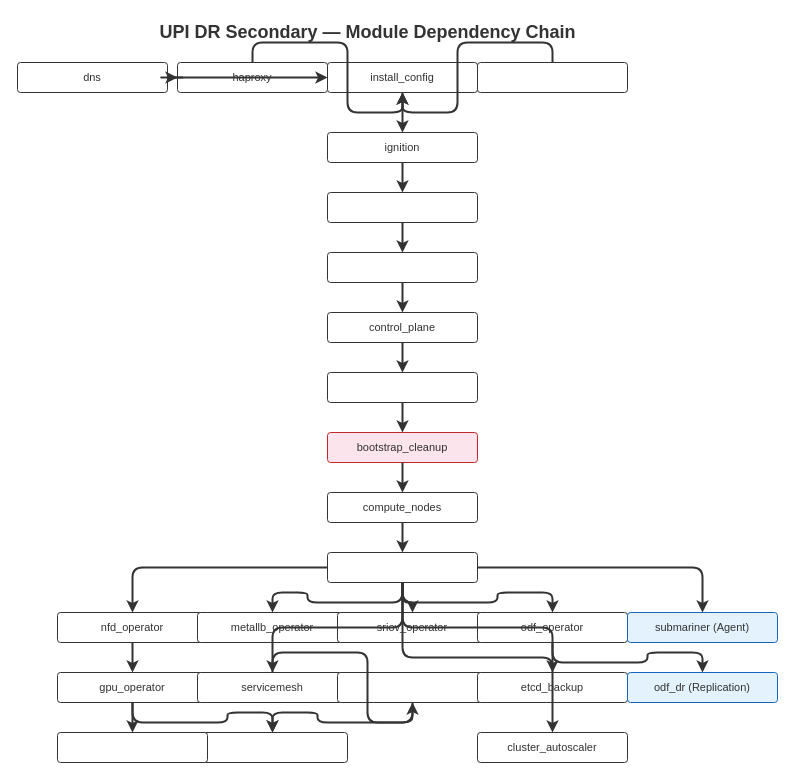
Some shapes in this 795 by 780 pixel diagram are drawn without their labels. The shapes that lost their labels are listed below. From the top down, each one's centre as x and y in pixels, then its label:
pixel 552 77: quay_mirror
pixel 402 207: ignition_server
pixel 402 267: bootstrap
pixel 402 387: bootstrap_complete
pixel 402 567: cluster_complete
pixel 412 687: serverless
pixel 132 747: gpu_monitoring
pixel 272 747: openshift_ai
